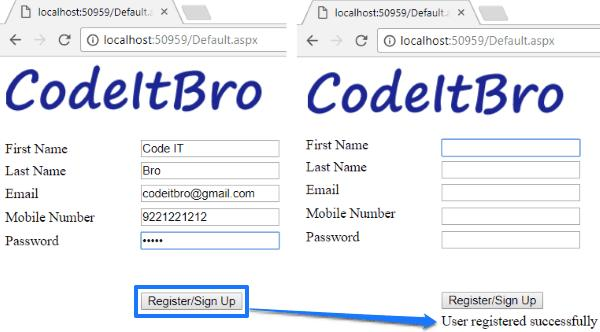button: (433, 285, 545, 311)
textbox: (137, 228, 283, 257)
